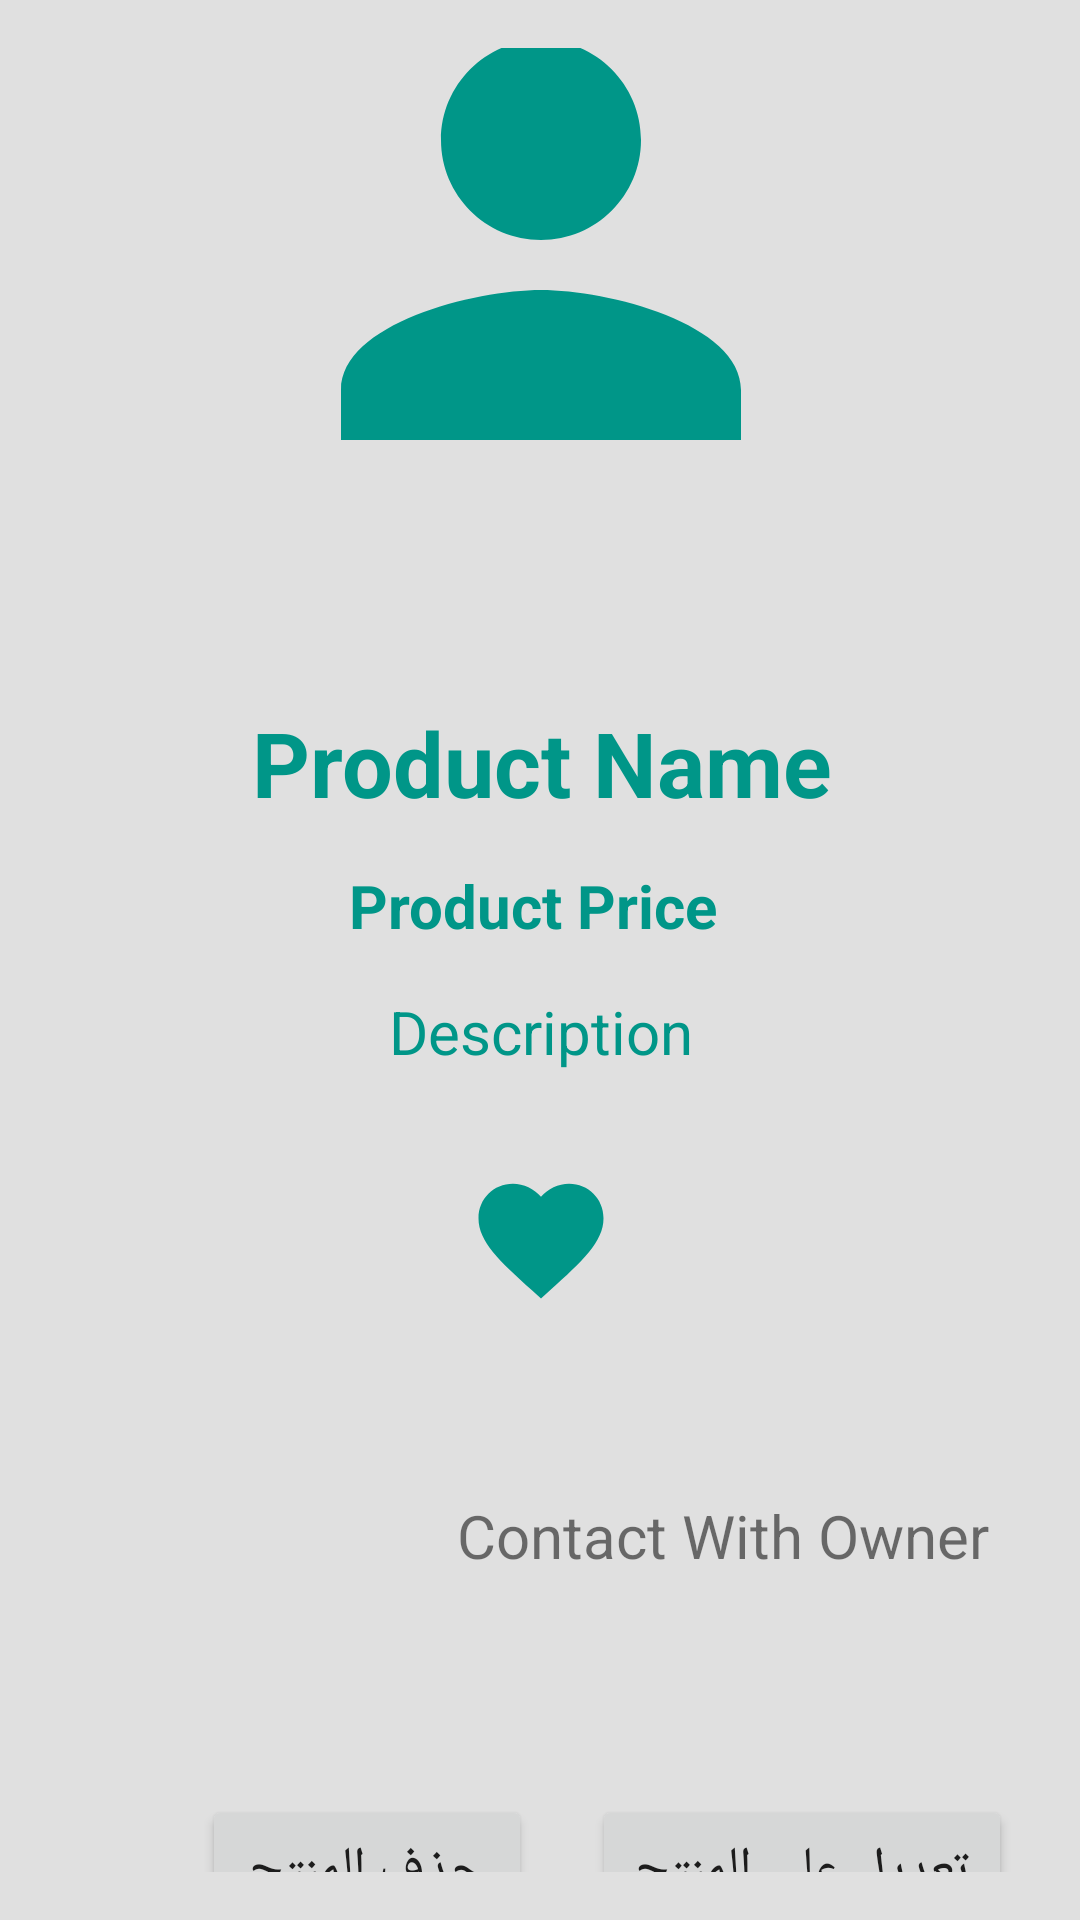

Named icons in this screenshot (1080px×1920px) and their centers, (x,y):
Favorite List: (541,1241)
